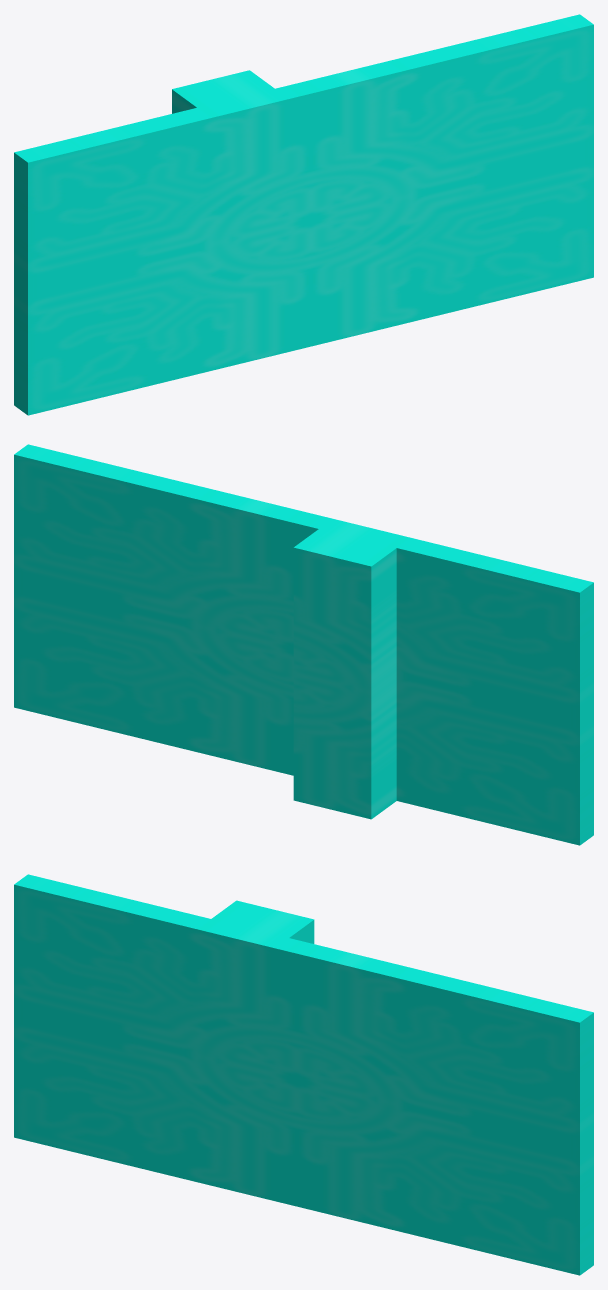
The model's file is 0_ground3.fbx.
3 views of the same model, one above another, from view 1: azimuth 30°, elevation 25°; view 2: azimuth 150°, elevation 25°; view 3: azimuth 330°, elevation 25° (orthographic).
Parts seen in each view (by area): view 1: mqo_mesh; view 2: mqo_mesh; view 3: mqo_mesh.
Boxes of the visible parts, x1,y1,x2,y2 form: mqo_mesh: [14, 14, 593, 415]; mqo_mesh: [14, 444, 593, 845]; mqo_mesh: [14, 874, 593, 1275].
Size of the model in its own units: 298 by 127 by 35.89.
